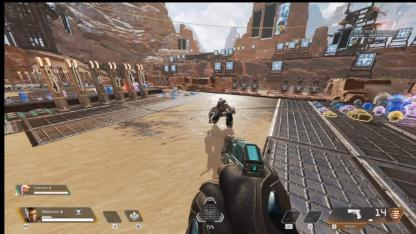Target: (209, 97, 235, 124)
